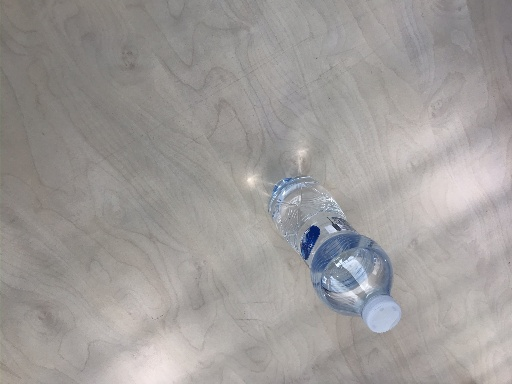Acqua: (266, 173, 402, 336)
